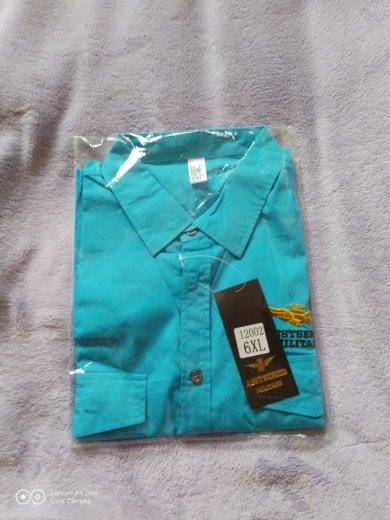shirts: (72, 131, 330, 436)
